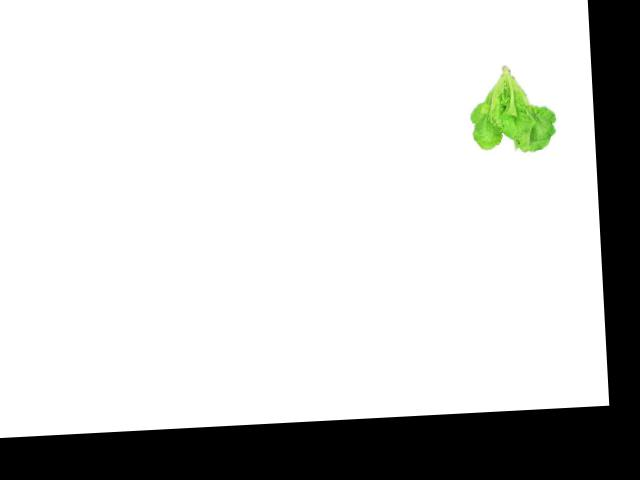lettuce: (464, 60, 562, 160)
